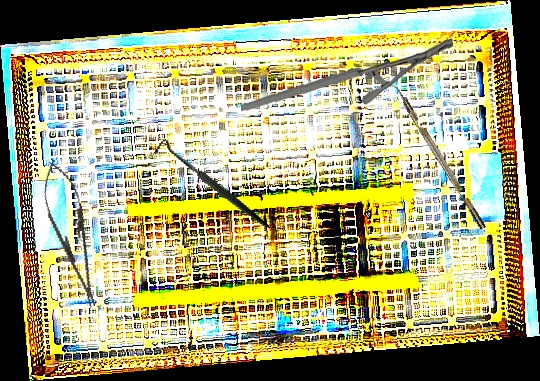Chopper: (383, 76, 486, 235)
Hook Surgical: (150, 114, 271, 259)
Needle Holder: (240, 29, 454, 120), (32, 156, 111, 313)
